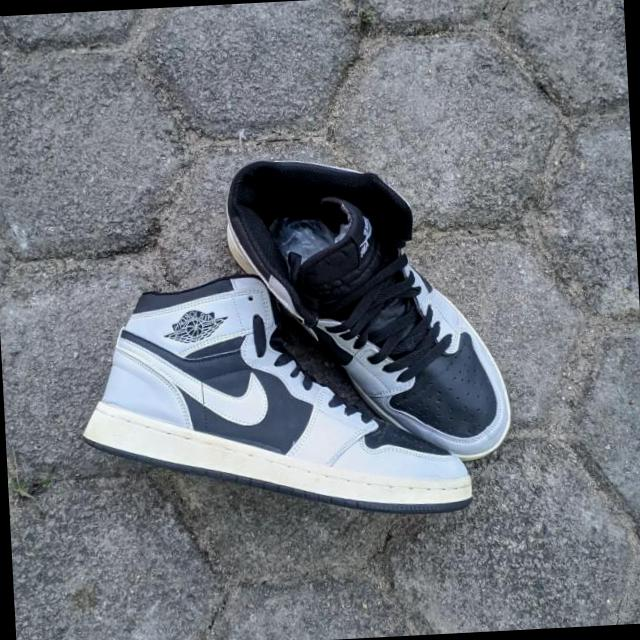nike_fake_jordan: (68, 263, 485, 532), (216, 149, 516, 474)
